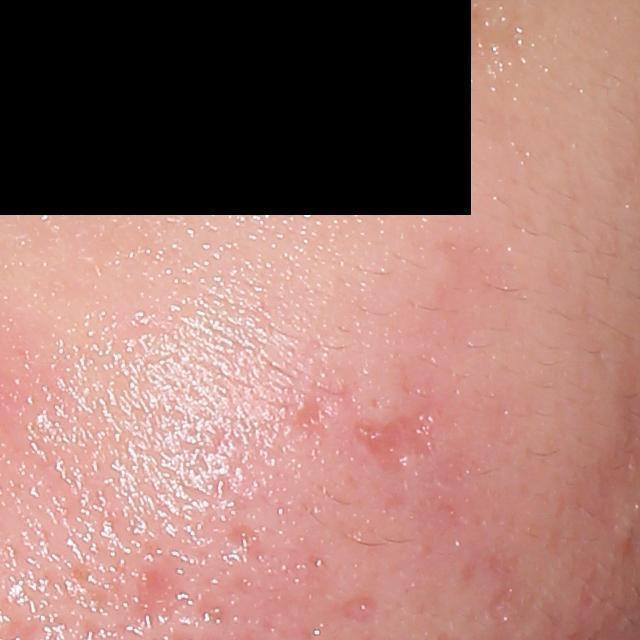atrophic_scar: (278, 388, 459, 498), (130, 557, 182, 635), (231, 519, 273, 579), (483, 584, 524, 625)
